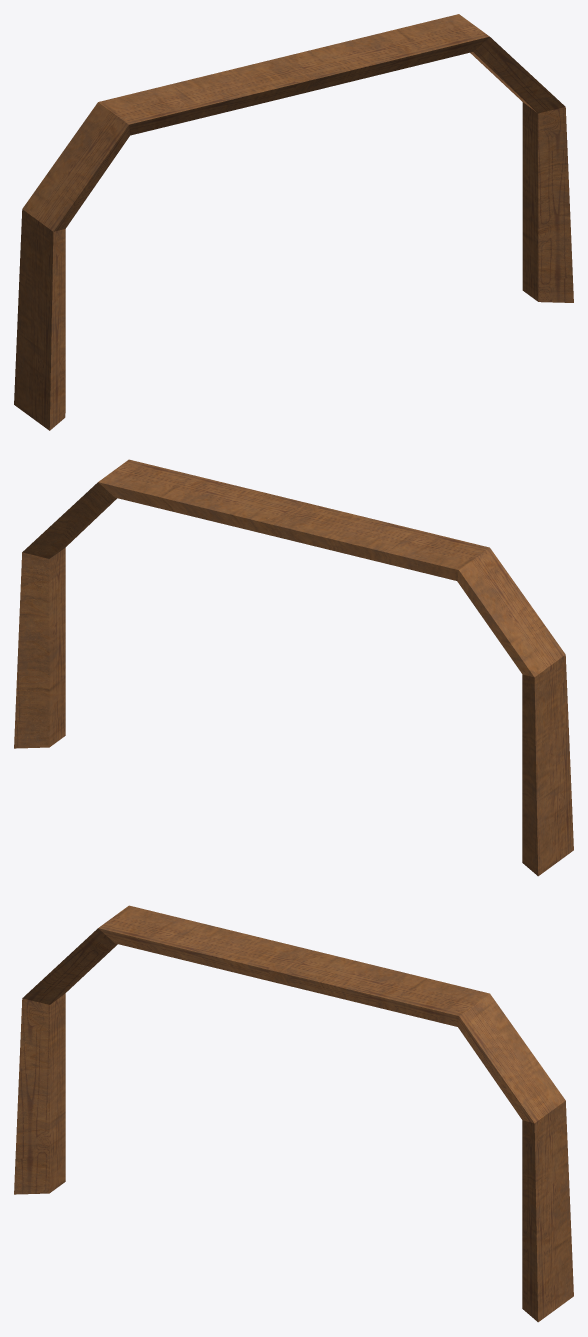
The model's file is WoodArc.glb.
The picture shows the model from 3 angles, top to bottom: view 1: azimuth 30°, elevation 25°; view 2: azimuth 150°, elevation 25°; view 3: azimuth 330°, elevation 25°; orthographic projection.
Parts seen in each view (by area): view 1: WoodArc; view 2: WoodArc; view 3: WoodArc.
Part boxes in pixels (x1=…): WoodArc: x1=14, y1=14, x2=573, y2=430; WoodArc: x1=14, y1=459, x2=573, y2=876; WoodArc: x1=14, y1=905, x2=573, y2=1322.
Size of the model in its own units: 11.77 by 6.11 by 1.39.
1 material, 1 textured.
